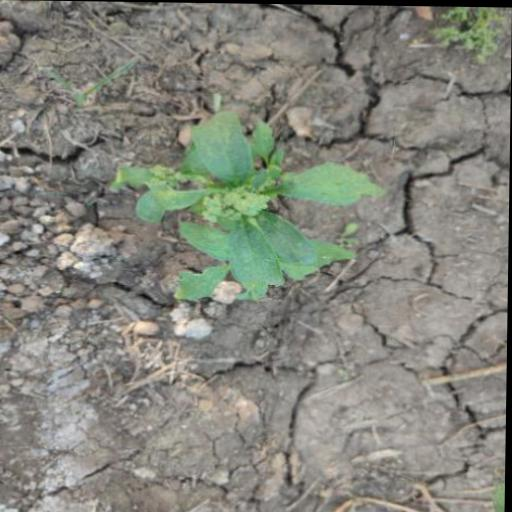weed: (102, 97, 394, 326)
